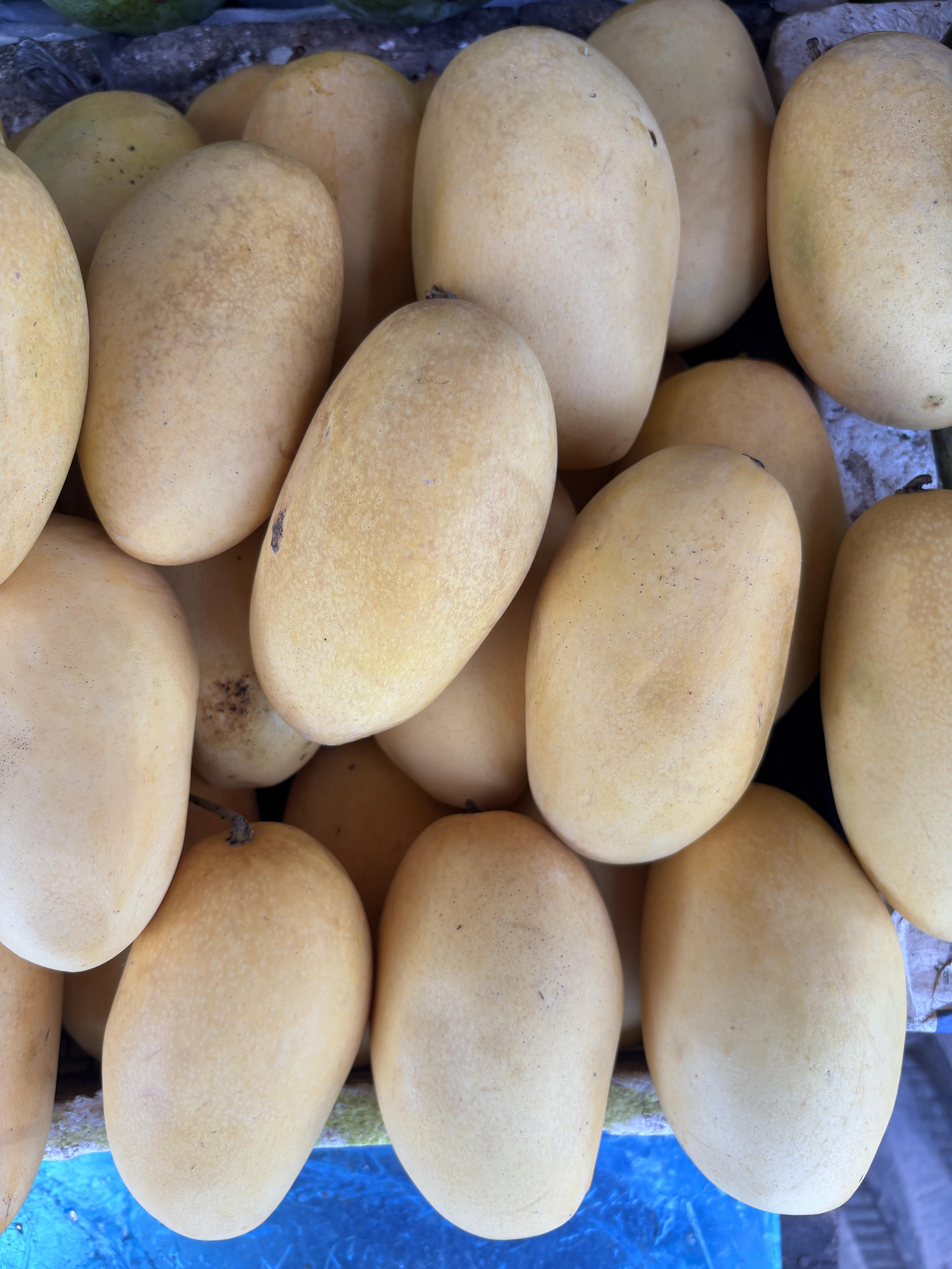mango: (250, 298, 556, 745), (527, 444, 800, 864), (102, 822, 372, 1239), (371, 811, 622, 1239)
occluded: (412, 27, 680, 469), (641, 784, 906, 1214), (78, 141, 343, 565), (0, 515, 198, 972), (615, 359, 847, 720), (768, 32, 952, 428), (589, 0, 775, 352), (378, 481, 575, 810), (821, 489, 952, 939), (244, 51, 425, 374), (159, 525, 319, 791), (0, 150, 89, 583), (284, 738, 455, 952), (19, 92, 201, 280), (0, 943, 64, 1232), (185, 63, 282, 144), (62, 948, 130, 1060), (190, 770, 258, 820), (183, 804, 222, 853)
